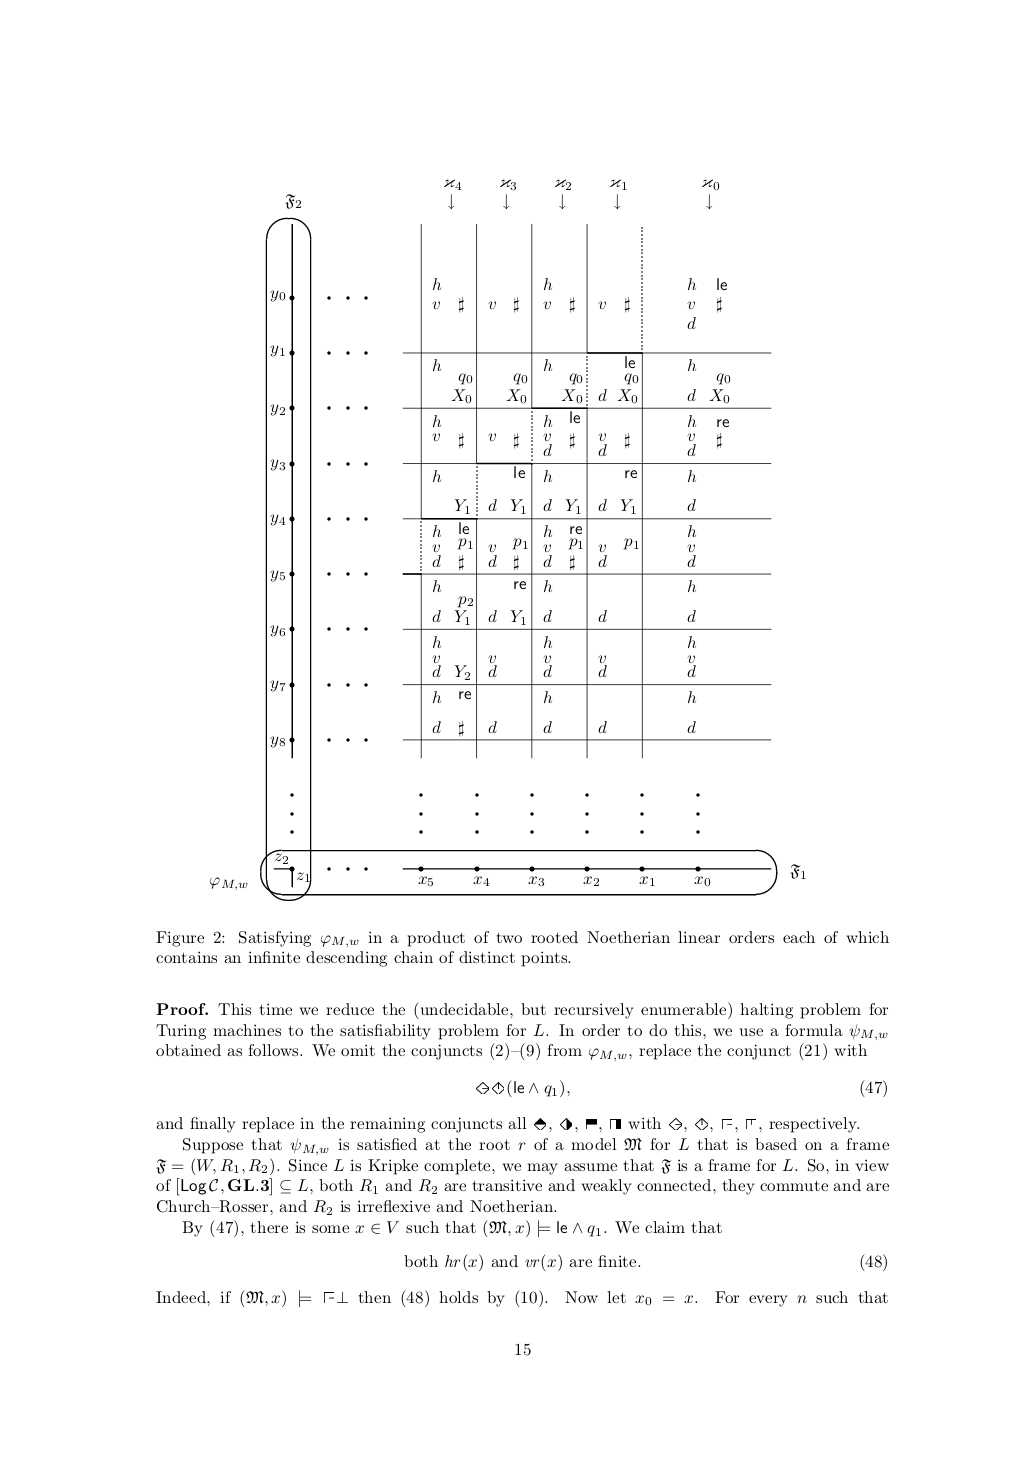figure: (209, 179, 805, 900)
formula: (404, 1252, 886, 1271), (476, 1079, 886, 1098)
